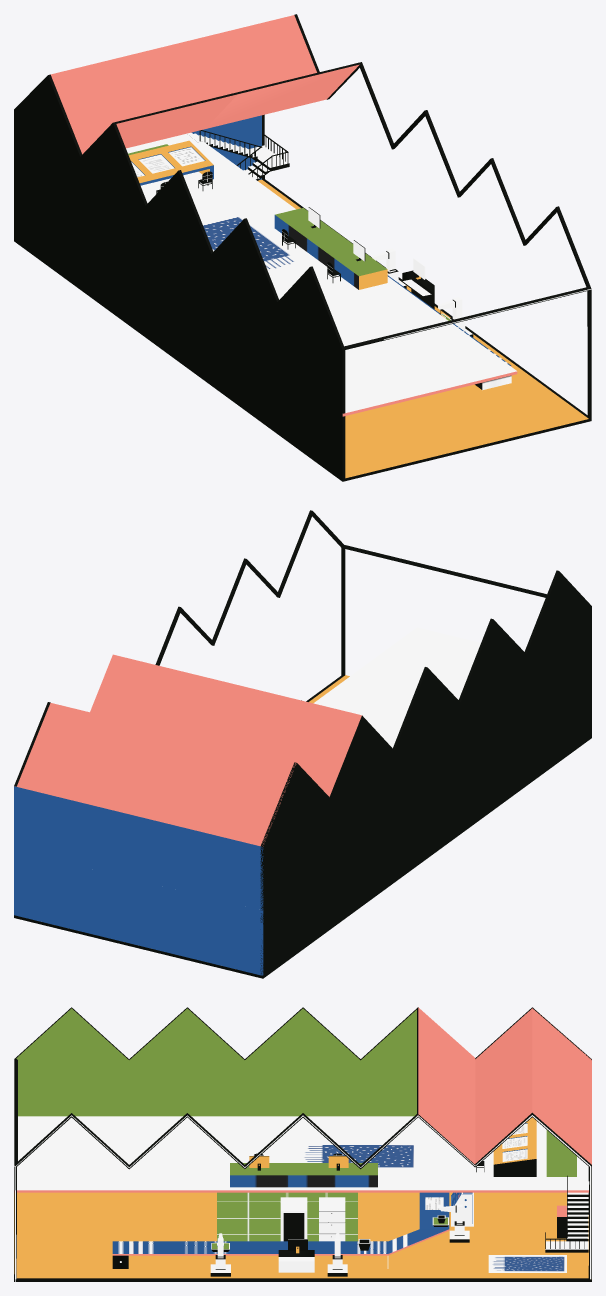
File: 生产工厂1.fbx
3 views of the same model, one above another, from view 1: azimuth 30°, elevation 25°; view 2: azimuth 150°, elevation 25°; view 3: azimuth 270°, elevation 25° (orthographic). The views are drawn at different scales.
Visible parts, largest first — view 1: 封顶_1_1, 电脑桌, 斜桌, 小地毯, stairs2, L形操作台; view 2: 封顶_1_1; view 3: 封顶_1_1, 折型桌子, 大地毯, 电脑桌, 小地毯, 斜桌, stairs2, 小地毯_2, 右_箱子, 左_箱子1, 大地毯_, L形操作台 (+4 smaller).
Boxes of the visible parts, x1,y1,x2,y2 form: 封顶_1_1: (14,14,591,481); 电脑桌: (274,207,387,289); 斜桌: (128,140,213,185); 小地毯: (202,214,308,273); stairs2: (186,130,289,180); L形操作台: (402,270,434,308); 封顶_1_1: (14,510,591,978); 封顶_1_1: (14,1007,591,1281); 折型桌子: (112,1192,449,1268); 大地毯: (217,1192,357,1241); 电脑桌: (230,1163,377,1187); 小地毯: (298,1142,417,1169); 斜桌: (493,1117,536,1176); stairs2: (545,1175,588,1252); 小地毯_2: (488,1255,566,1272); 右_箱子: (280,1197,307,1241); 左_箱子1: (319,1197,345,1241); 大地毯_: (546,1130,576,1176); L形操作台: (278,1250,314,1272).
Bounding box in the file's own units: 1401 × 1027 × 3201.
